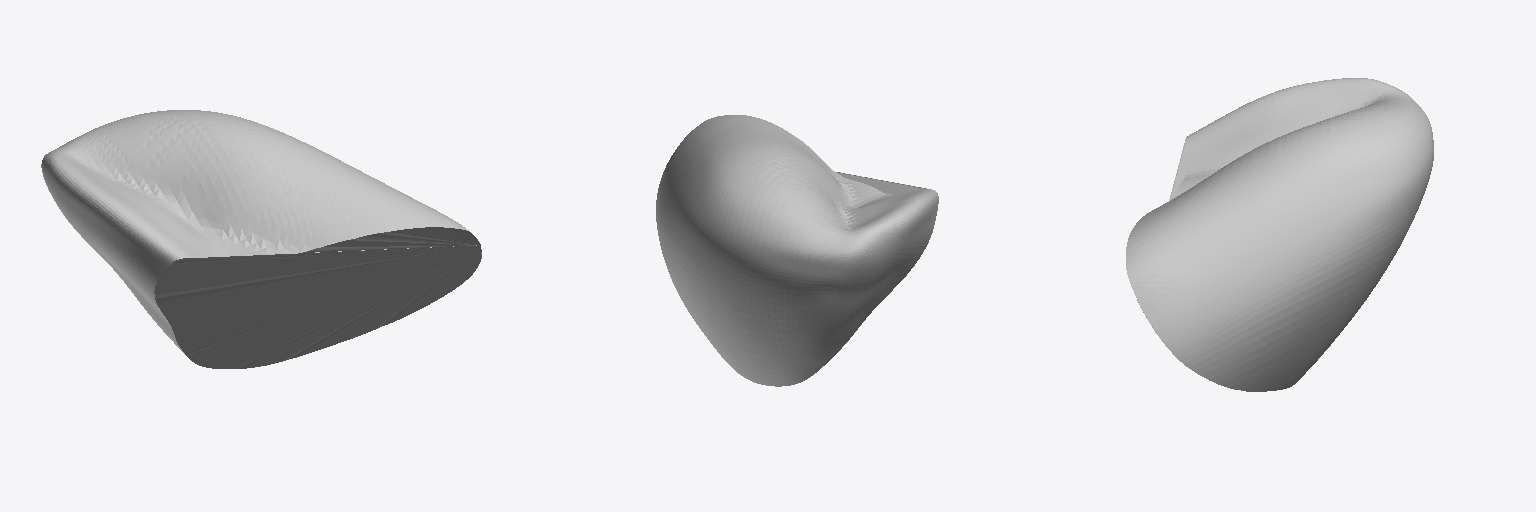
The model's file is liver2.obj.
3 views of the same model, side by side, from view 1: azimuth 30°, elevation 25°; view 2: azimuth 150°, elevation 25°; view 3: azimuth 270°, elevation 25° (orthographic).
Parts seen in each view (by area): view 1: liver.002; view 2: liver.002; view 3: liver.002.
Part boxes in pixels (x1,y1,x2,y2): liver.002: (41,110,481,368); liver.002: (656,115,938,386); liver.002: (1126,78,1433,391).
Bounding box in the file's own units: 0.0646 × 0.045 × 0.0523.